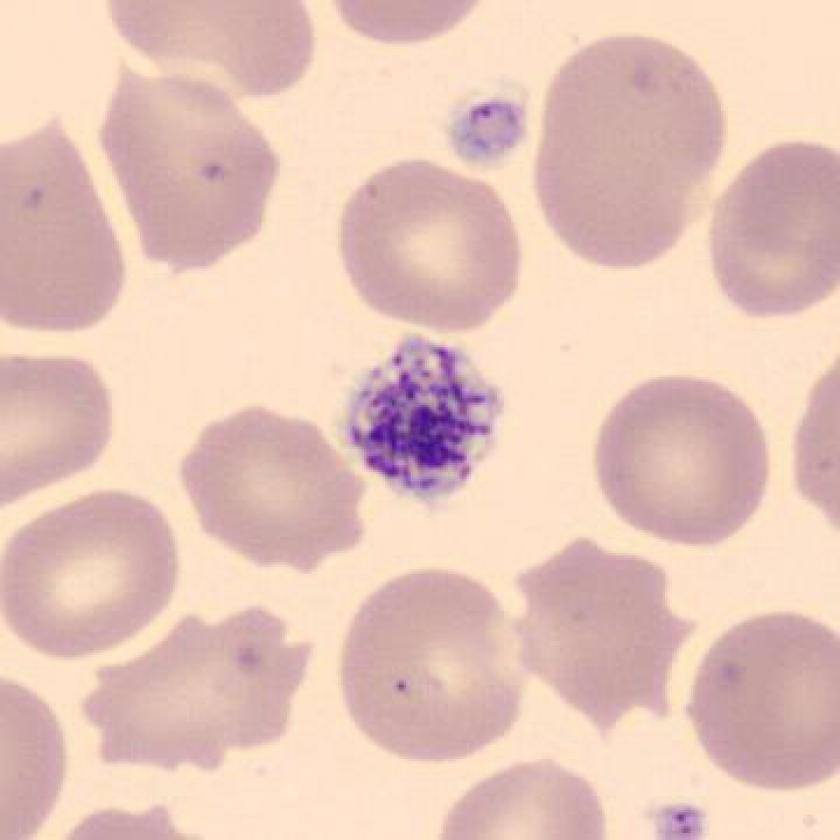platelets: (328, 323, 517, 515), (440, 73, 542, 182)
